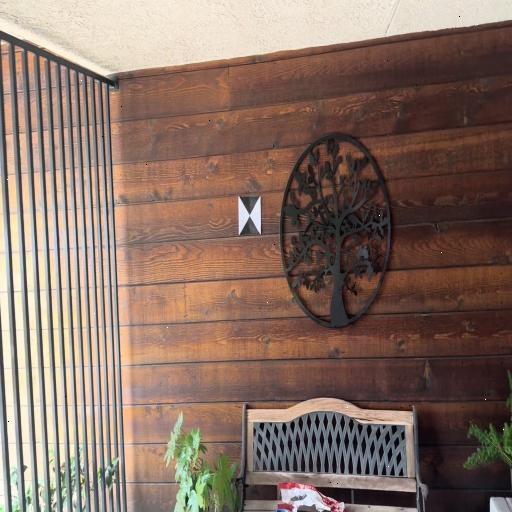target: (239, 197, 261, 236)
